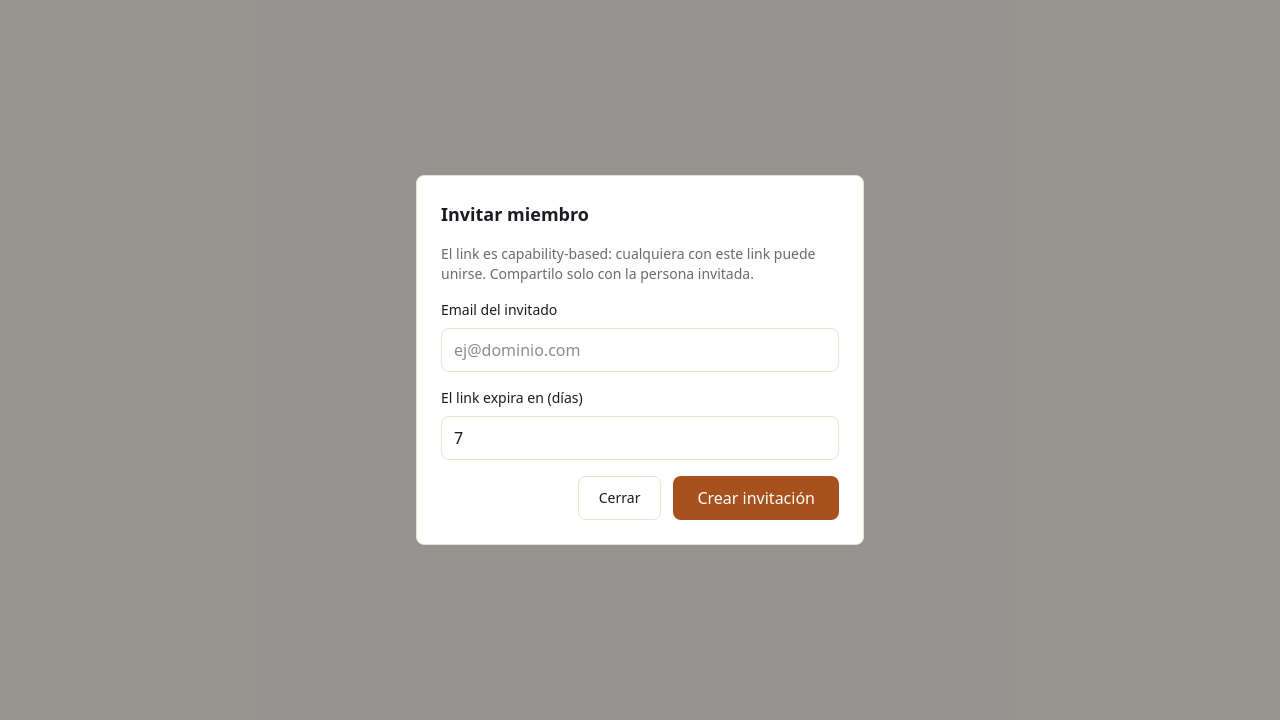
Test case: <InviteMemberModal /> › Action retorna error not_owner ⇒ feedback inline, modal sigue montado
Type "a@b.com" into the field labelled "Email del invitado".
click(640, 350); type("a@b.com")  # box [441,328,839,372]
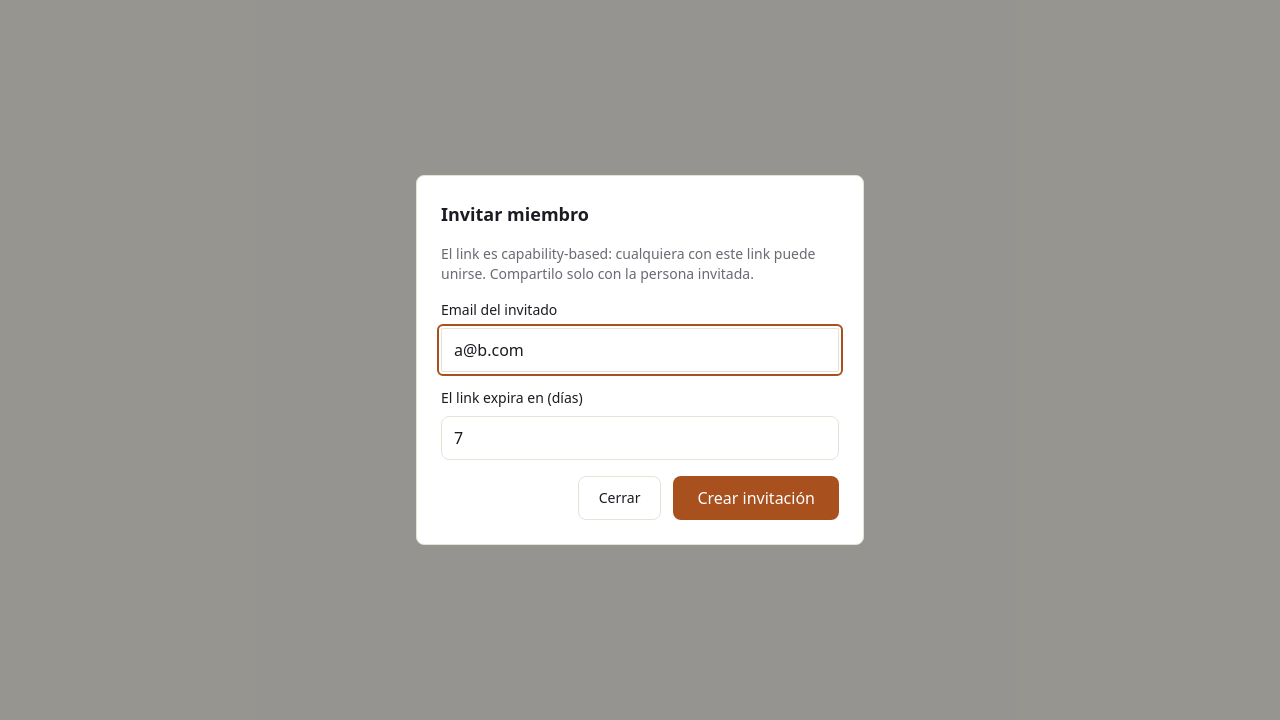
Click the button "Crear invitación".
click(756, 498)  # box [673,476,839,520]
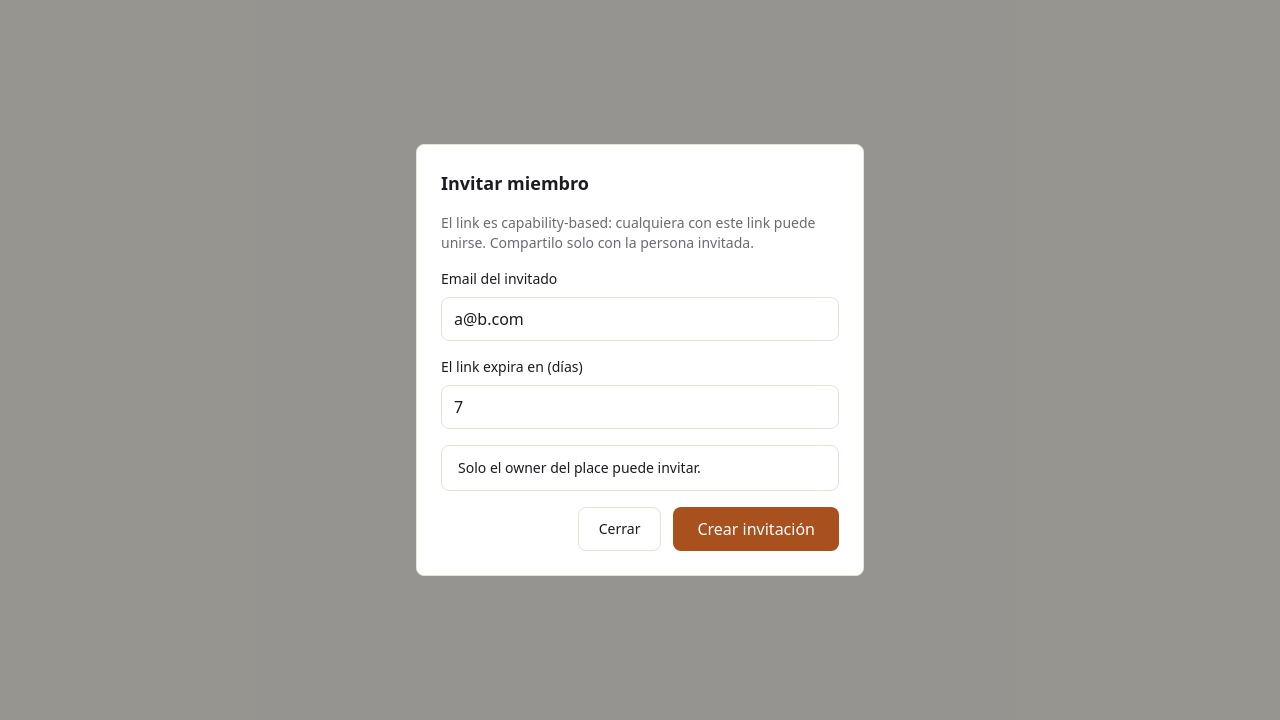
Now the text "Solo el owner del place puede invitar." is shown, box [441,445,839,491]
